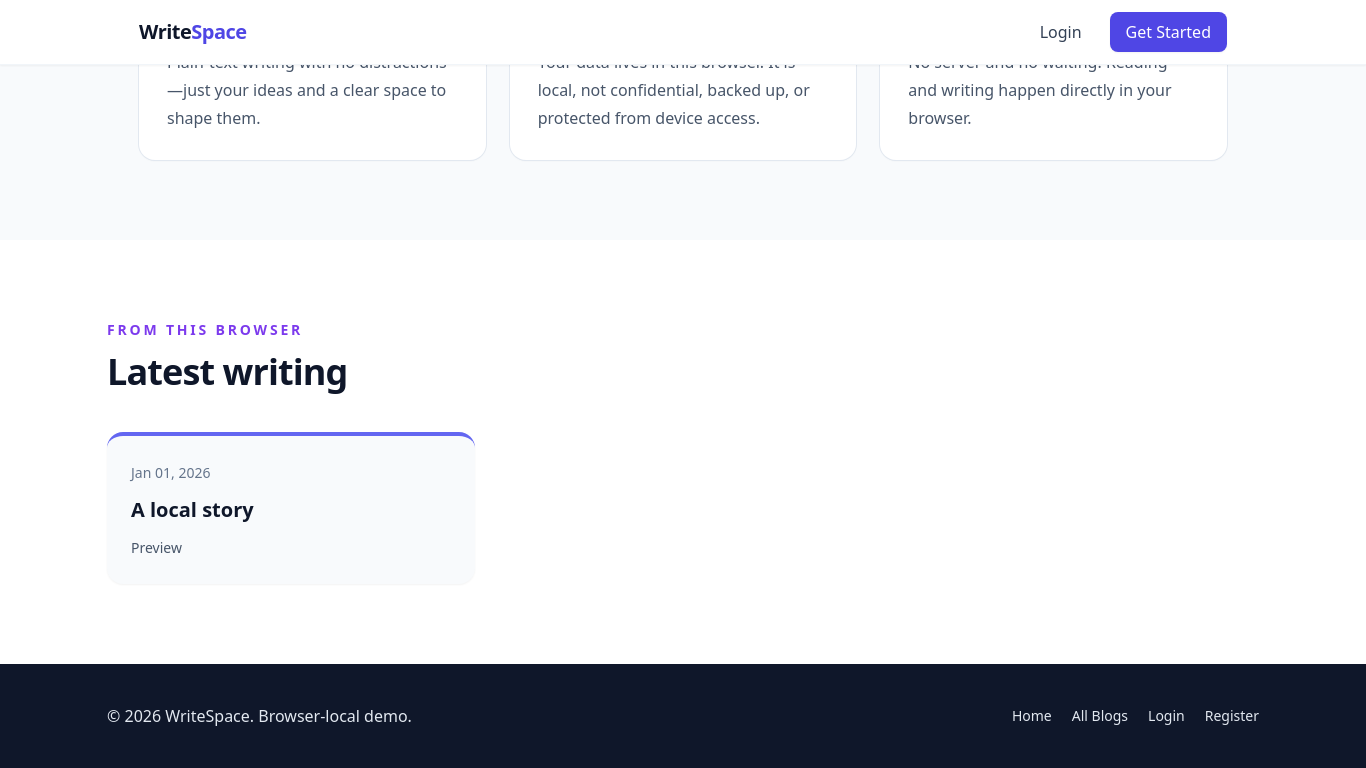
Test case: landing discovery › sends a guest preview click to login
(page scrolled)
Click the link "Jan 01, 2026 A local story Preview".
click(171, 472)  # box [107, 432, 475, 584]
(page scrolled)
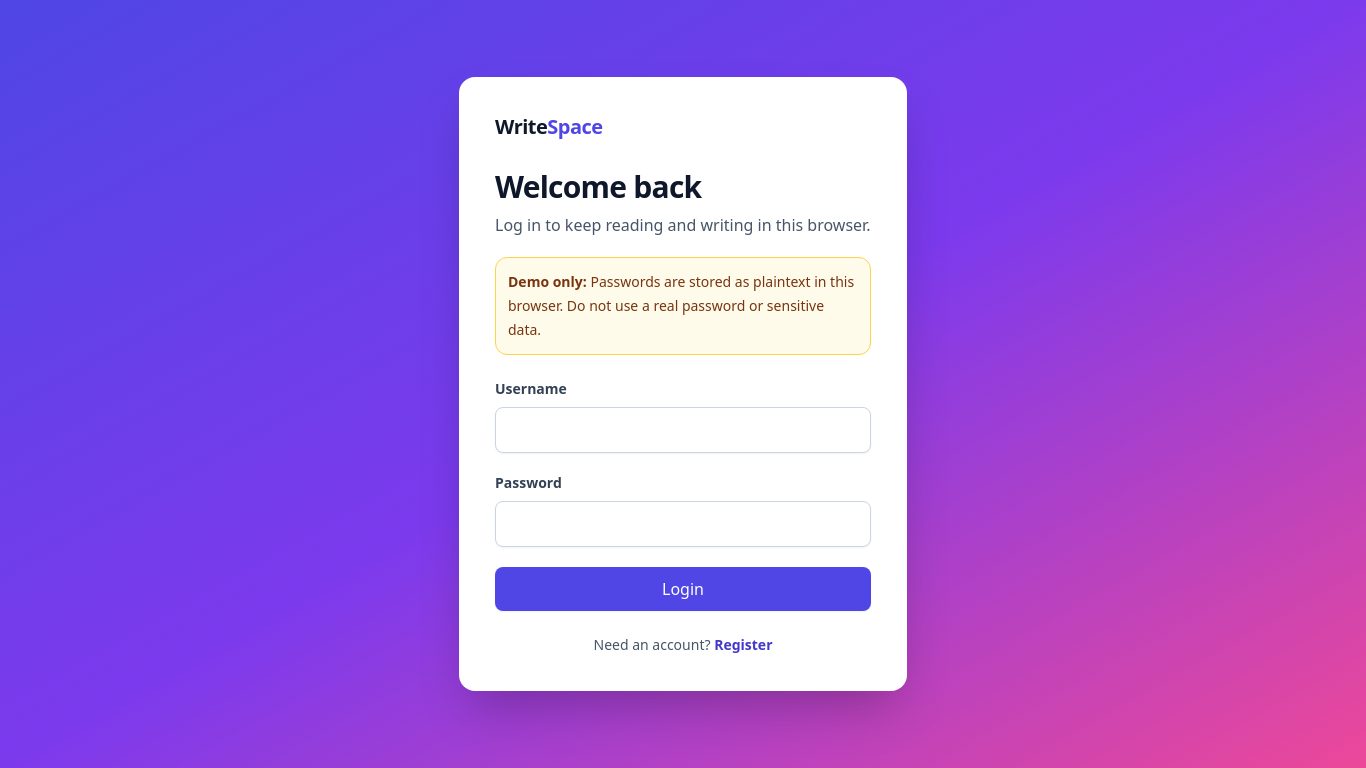
Check: the heading "Welcome back" is shown, box [495, 166, 701, 207]
